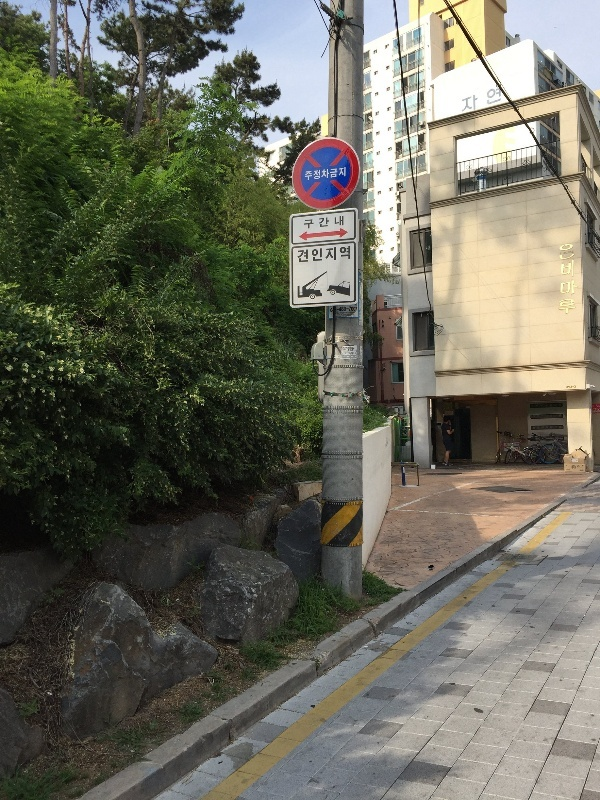text: (562, 260, 576, 317), (465, 87, 480, 115), (481, 87, 496, 115), (305, 246, 320, 263), (321, 246, 336, 263), (337, 246, 351, 263), (561, 244, 575, 260), (305, 167, 320, 181), (321, 167, 336, 181), (360, 301, 368, 326), (305, 216, 320, 229), (321, 216, 336, 229), (577, 260, 580, 317), (360, 282, 368, 300), (337, 167, 346, 181), (497, 87, 501, 115), (337, 216, 344, 229), (337, 311, 352, 317), (299, 246, 304, 263), (361, 347, 368, 356), (593, 405, 600, 414), (337, 307, 352, 311), (342, 347, 352, 352), (566, 385, 576, 389), (463, 87, 464, 115), (345, 352, 352, 355), (331, 308, 336, 312), (353, 311, 356, 317), (353, 307, 357, 311), (333, 307, 336, 312), (353, 352, 357, 355), (353, 347, 354, 352)
